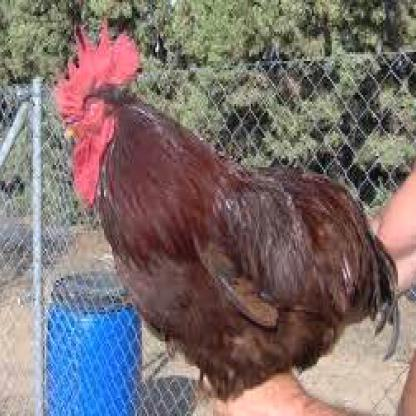chicken: (54, 18, 398, 400)
